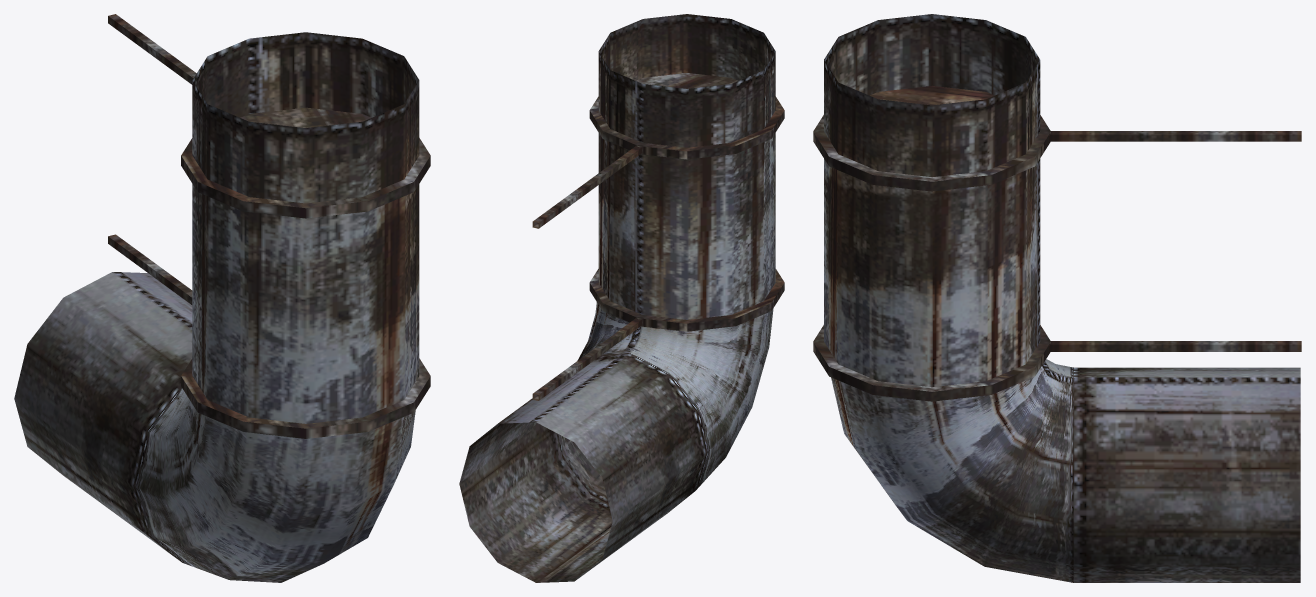
Rendered from ventilation_pipe_elbow_wall.DAE.
3 renders of one model, left to right at view 1: azimuth 30°, elevation 25°; view 2: azimuth 150°, elevation 25°; view 3: azimuth 270°, elevation 25°, orthographic. The views are drawn at different scales.
Parts seen in each view (by area): view 1: Object016; view 2: Object016; view 3: Object016.
Part boxes in pixels (box(x1,y1,x2,y2)): Object016: box(14, 14, 430, 582); Object016: box(459, 14, 784, 582); Object016: box(813, 14, 1301, 582).
Size of the model in its own units: 1.1 by 2.62 by 2.26.
